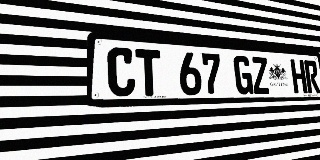6: (178, 52, 202, 95)
7: (200, 53, 223, 95)
C: (107, 47, 136, 97)
G: (233, 55, 254, 94)
H: (290, 59, 308, 94)
R: (304, 60, 320, 93)
T: (135, 49, 162, 96)
Z: (251, 56, 270, 94)
